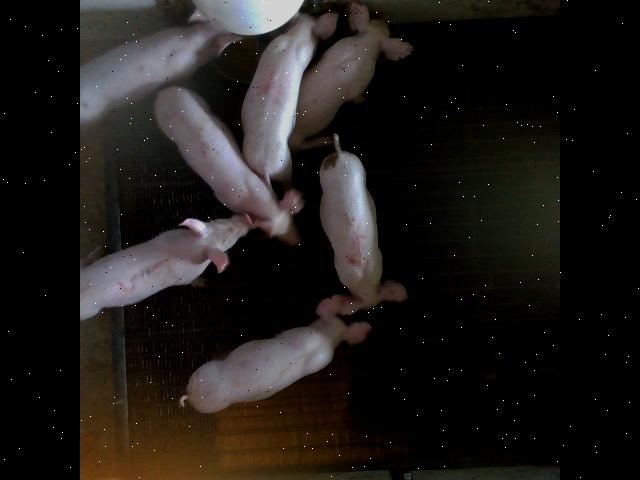pig-3: (82, 214, 254, 319)
pig-4: (242, 11, 339, 184)
pig-5: (317, 132, 409, 315)
